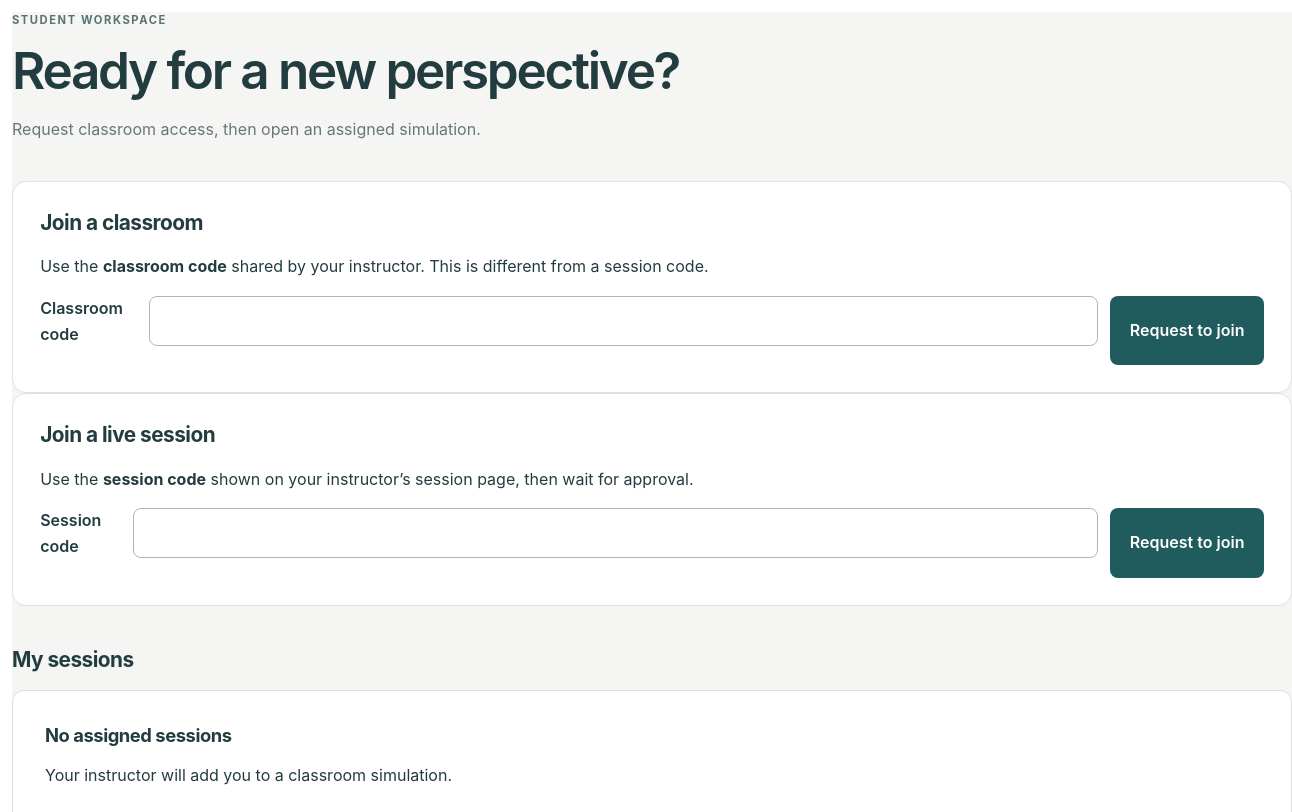
Test: maps the actual membership-required 422 to classroom approval guidance
Type "session1" into the field labelled "Session code" at (616, 533), box [133, 508, 1098, 558]
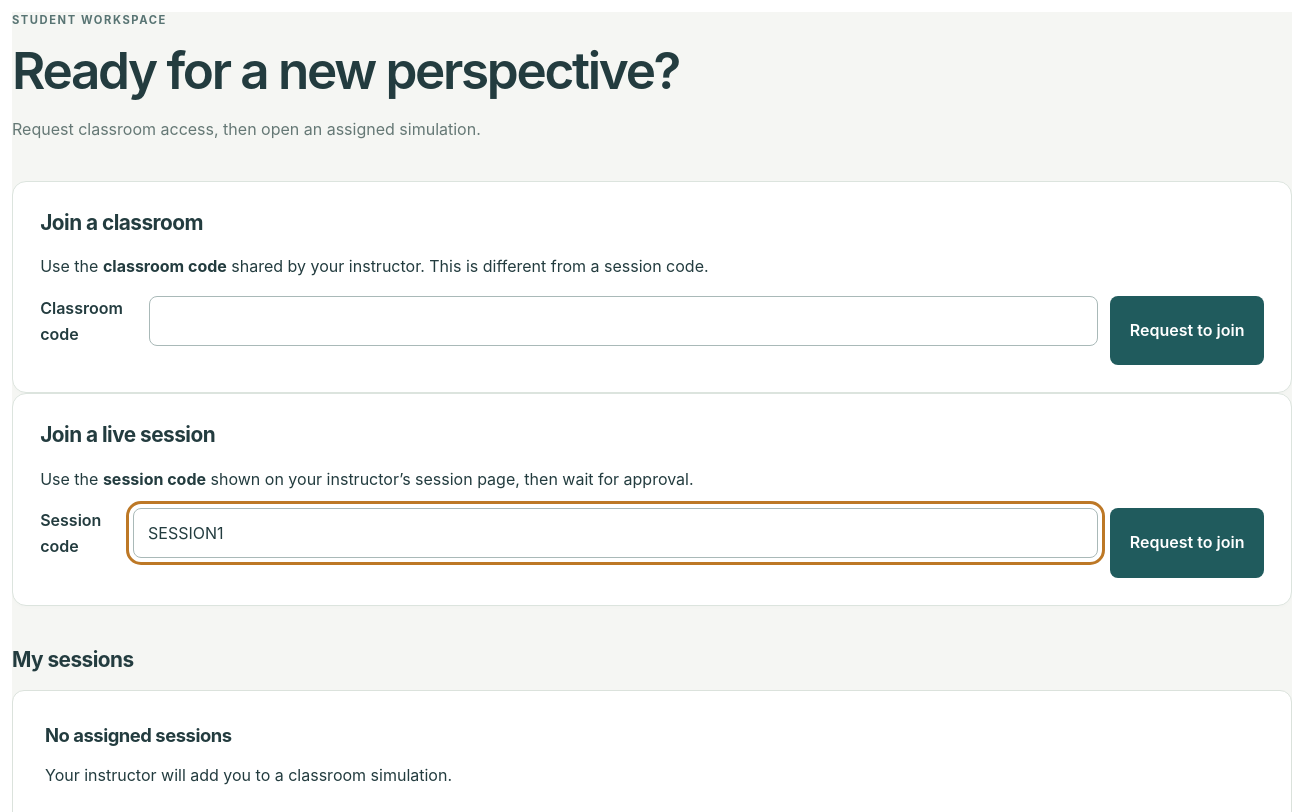
Click the 2nd button "Request to join" at (1187, 543), box [1110, 508, 1264, 578]
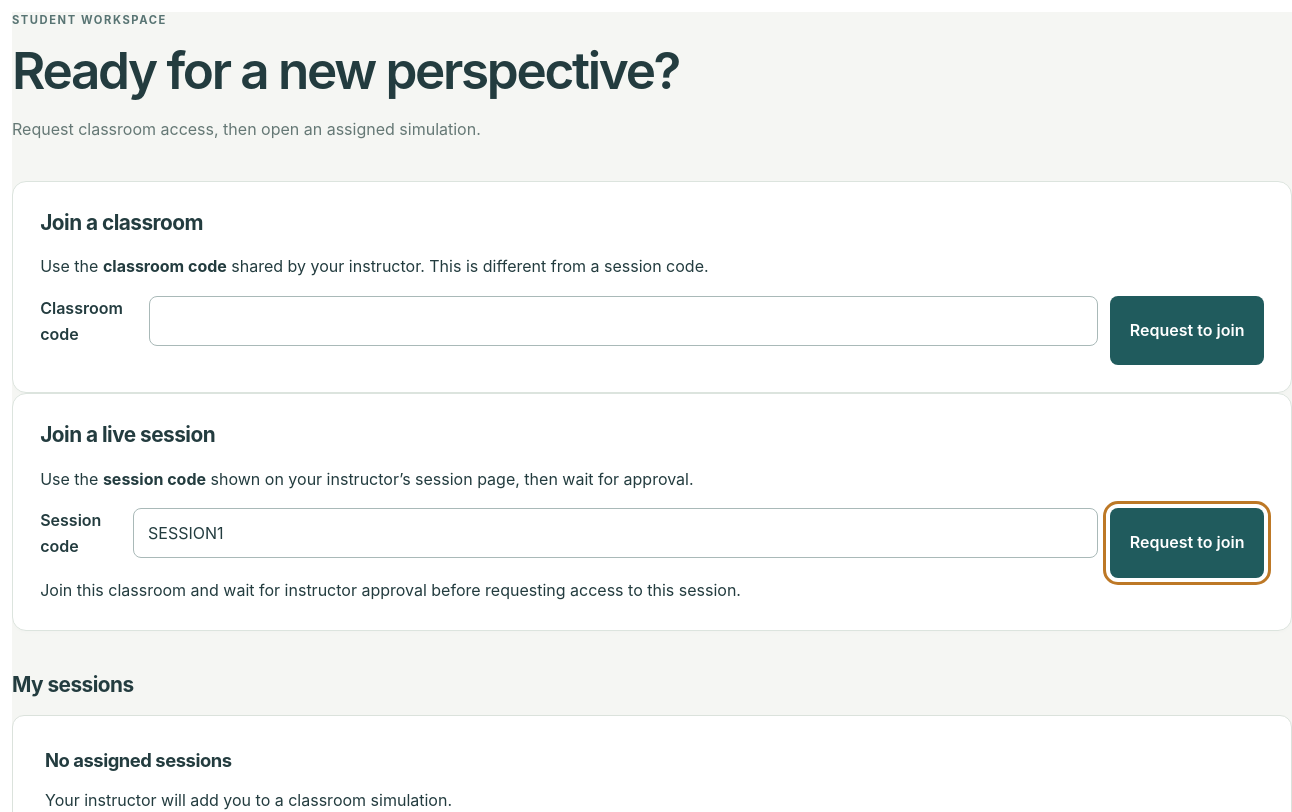
Expected: the message shows "Join this classroom and wait for instructor approval before requesting access to this session.", [40, 580, 741, 600]
